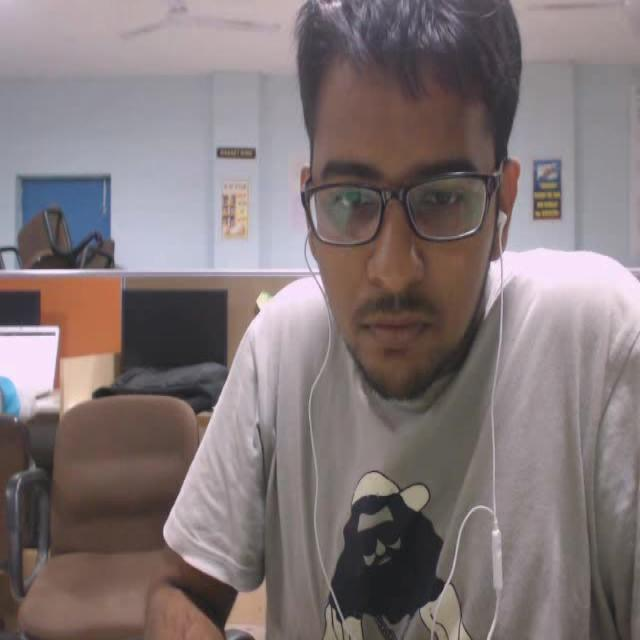Engaged: (261, 0, 584, 468)
